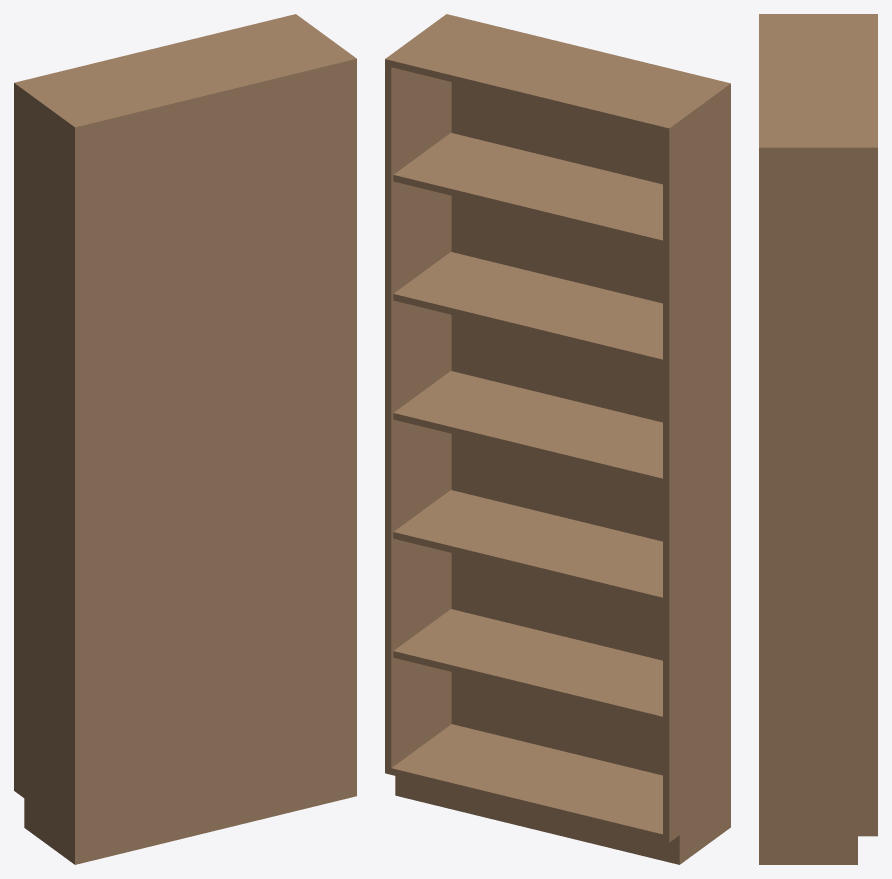
The model's file is furniture.storage.bookcase_tall.glb.
3 views of the same model, side by side, from view 1: azimuth 30°, elevation 25°; view 2: azimuth 150°, elevation 25°; view 3: azimuth 270°, elevation 25° (orthographic). The views are drawn at different scales.
Parts seen in each view (by area): view 1: main__hardwood; view 2: main__hardwood; view 3: main__hardwood.
Part boxes in pixels (<box>): main__hardwood: <box>14,14,356,864</box>; main__hardwood: <box>385,14,730,864</box>; main__hardwood: <box>759,14,877,864</box>.
Size of the model in its own units: 0.8 by 2 by 0.3.
